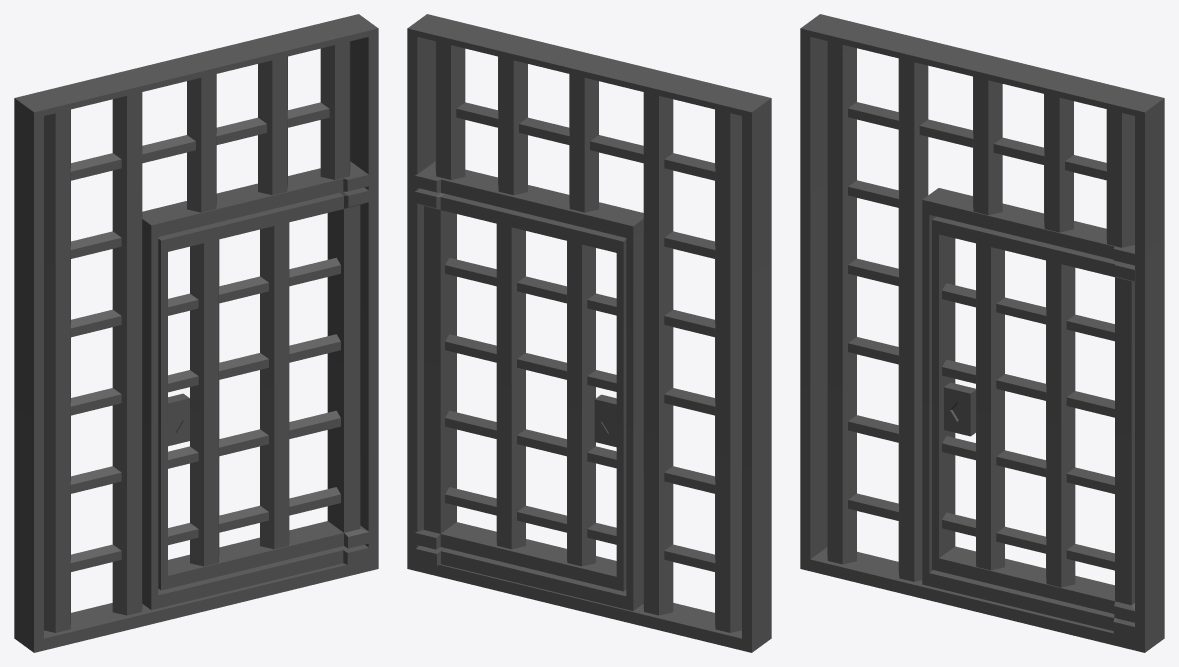
Rendered from Wall_jail_entrance.fbx.
The picture shows the model from 3 angles, left to right: view 1: azimuth 30°, elevation 25°; view 2: azimuth 150°, elevation 25°; view 3: azimuth 330°, elevation 25°; orthographic projection.
Visible parts, largest first — view 1: Wall_jail_entrance, Wall_jail._door; view 2: Wall_jail_entrance, Wall_jail._door; view 3: Wall_jail_entrance, Wall_jail._door.
Boxes of the visible parts, x1,y1,x2,y2 form: Wall_jail_entrance: [14, 14, 378, 652]; Wall_jail._door: [158, 187, 369, 590]; Wall_jail_entrance: [407, 14, 771, 652]; Wall_jail._door: [414, 188, 626, 591]; Wall_jail_entrance: [800, 14, 1164, 652]; Wall_jail._door: [932, 216, 1135, 622].
Size of the model in its own units: 200 by 300 by 21.51.
